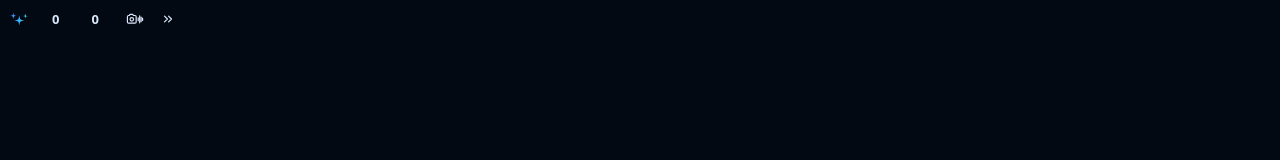
HelperApp › right-click → Open Sparkle reveals the main window
Expected: the button with test id "helper-needs-you" is shown, left=32, top=7, right=67, bottom=31
Right-click the element with test id "helper-root" at (94, 19), box left=10, top=6, right=179, bottom=32
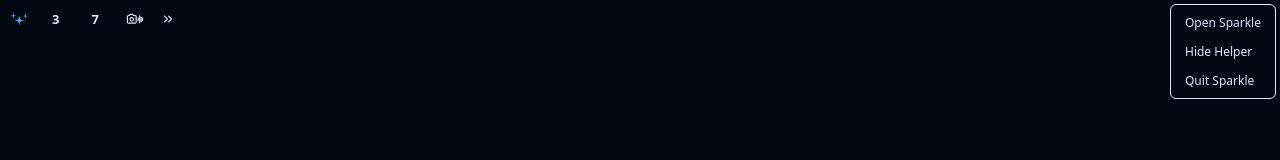
Click the button "Open Sparkle" at (1223, 22), box left=1175, top=9, right=1271, bottom=36
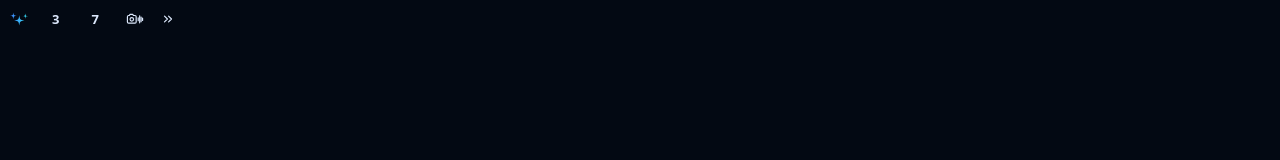
Now the menu is gone
